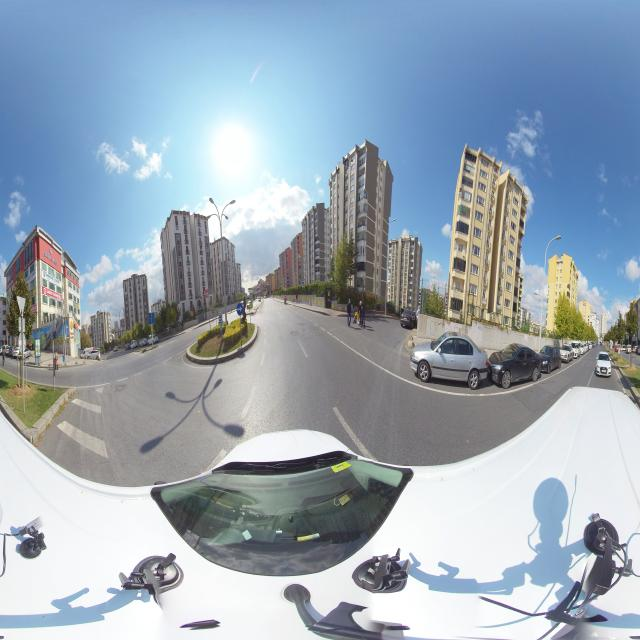SignStore: (43, 271, 61, 287), (43, 287, 62, 301), (25, 271, 36, 283), (69, 287, 79, 298)
